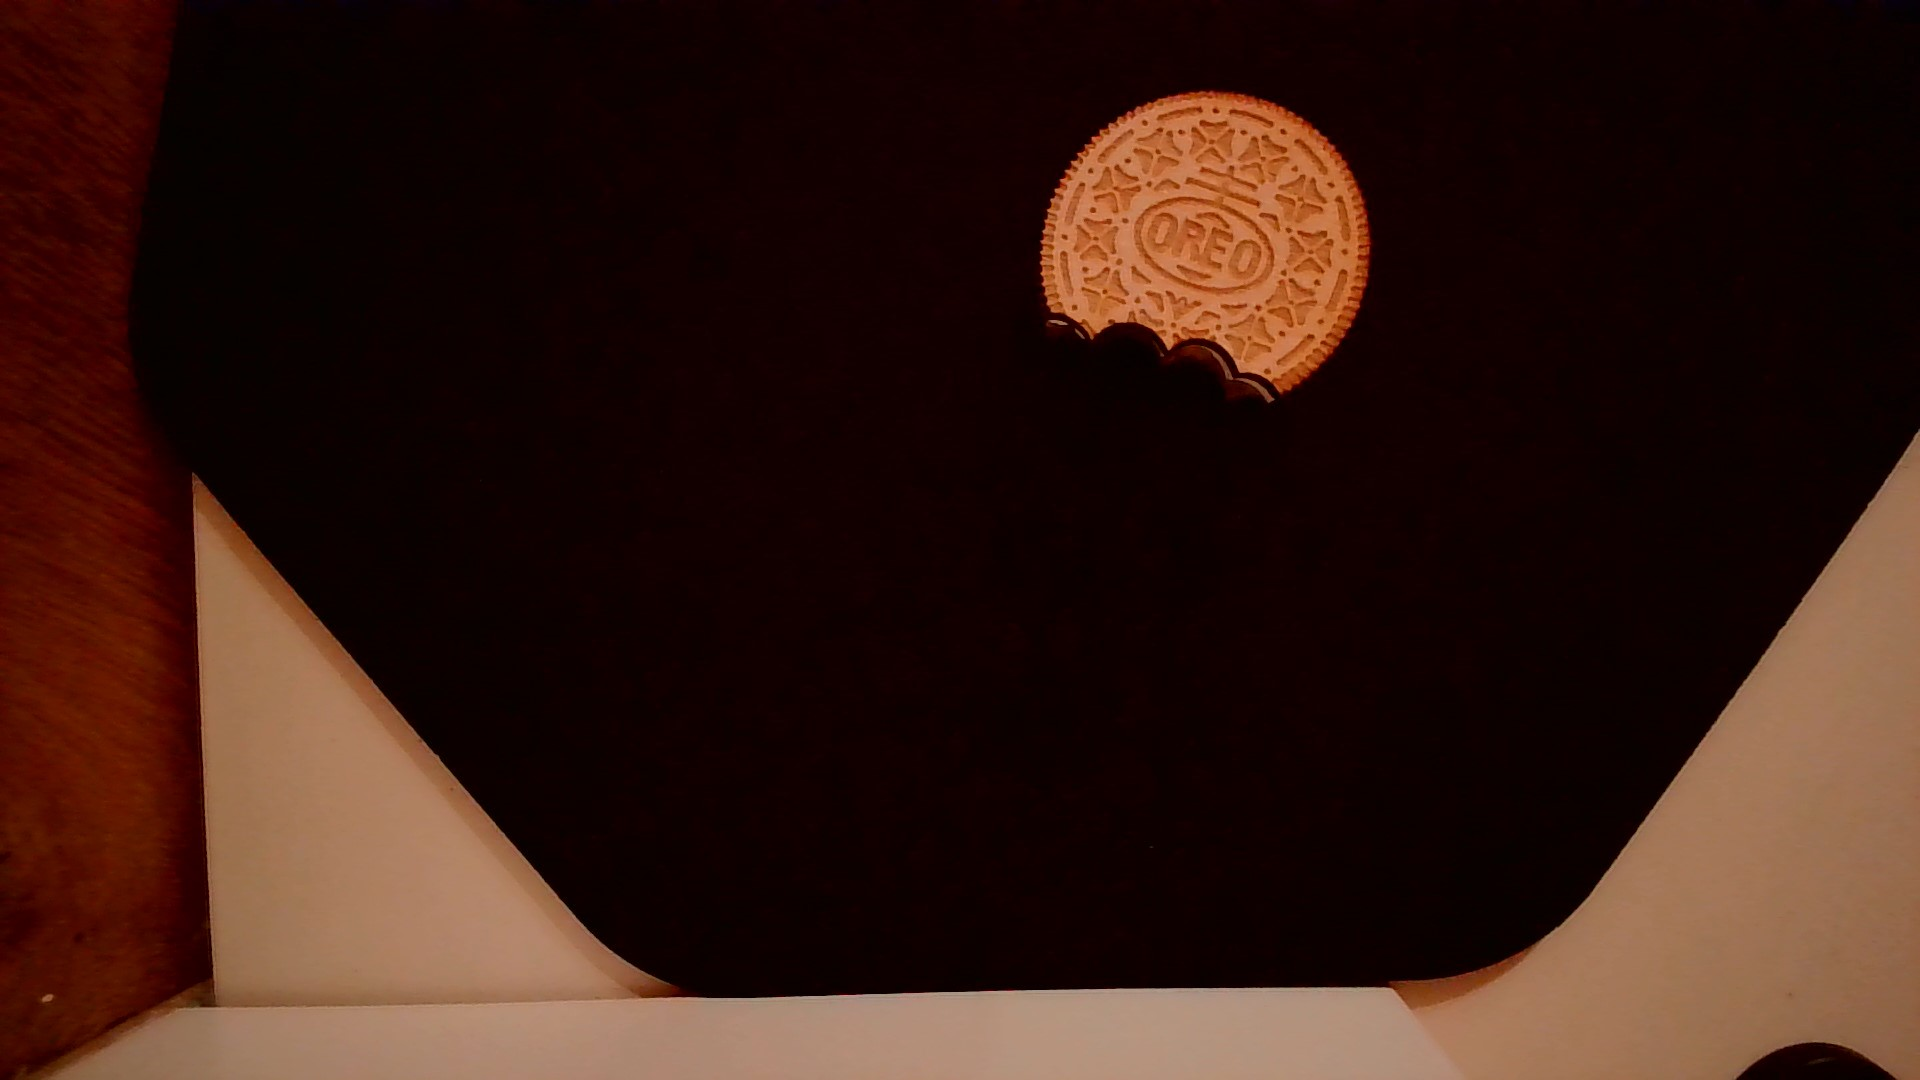Mangé: (1019, 297, 1309, 411)
Oréo: (1027, 78, 1382, 411)
